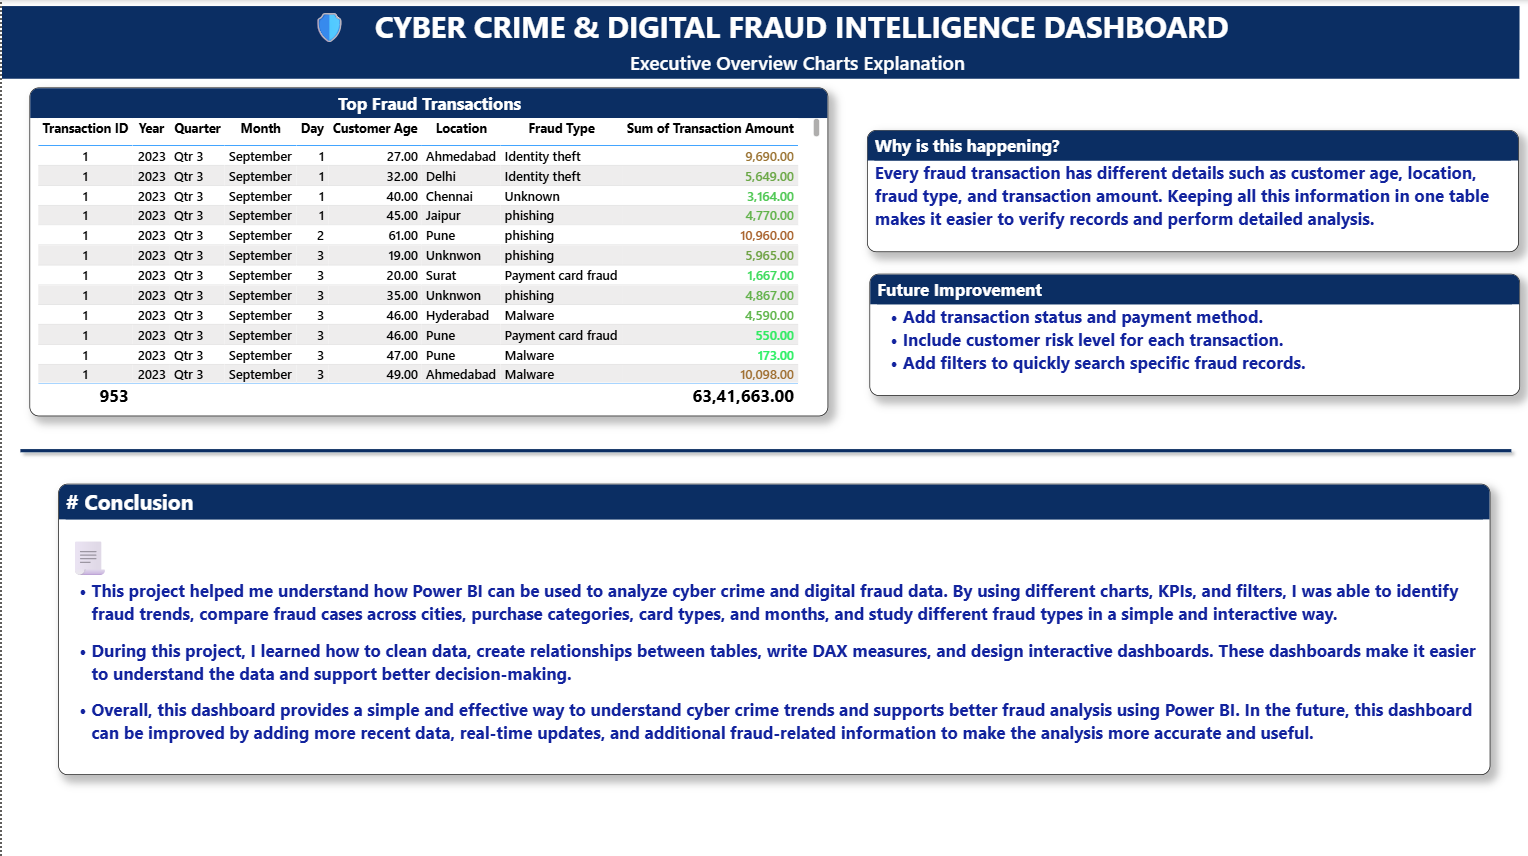

This screenshot's page, from the dashboard's own definition file:
{"tool":"powerbi","page":{"name":"Charts Explanation 3","canvas":[1920,1080],"ordinal":9},"visuals":[{"type":"shape","title":"   🛡️    CYBER CRIME & DIGITAL FRAUD INTELLIGENCE DASHBOARD","box":[0,7.3,1909.1,90.9],"z":0},{"type":"shape","box":[13.8,539.3,1893.6,55.1],"z":1000},{"type":"textbox","title":"Why is this happening?","box":[1088.4,164,819.8,153.5],"z":2000},{"type":"textbox","title":"Future Improvement","box":[1091.9,343.6,818,153.5],"z":3000},{"type":"textbox","title":"# Conclusion","box":[71.5,608.7,1801.7,366.3],"z":4000},{"type":"tableEx","title":"Top Fraud Transactions","fields":{"Values":["CountNonNull(Fact_Fraud.Transaction ID)","Fact_Fraud.Transaction Date Time.Variation.Date Hierarchy.Year","Fact_Fraud.Transaction Date Time.Variation.Date Hierarchy.Quarter","Fact_Fraud.Transaction Date Time.Variation.Date Hierarchy.Month","Fact_Fraud.Transaction Date Time.Variation.Date Hierarchy.Day","Fact_Fraud.Customer Age","Fact_Fraud.Location","Fact_Fraud.Fraud Type","Sum(Fact_Fraud.Transaction Amount)"]},"box":[34.9,109.9,1004.7,413.4],"z":5001}]}

Visuals, with their boxes in screenshot pixels (x1, y1, x2, y2), scaled from the page's 1920x1080 canvas onto the 1528x856 screenshot:
"   🛡️    CYBER CRIME & DIGITAL FRAUD INTELLIGENCE DASHBOARD" shape: left=0, top=6, right=1519, bottom=78
shape: left=11, top=427, right=1518, bottom=471
"Why is this happening?" textbox: left=866, top=130, right=1519, bottom=252
"Future Improvement" textbox: left=869, top=272, right=1520, bottom=394
"# Conclusion" textbox: left=57, top=482, right=1491, bottom=773
"Top Fraud Transactions" tableEx: left=28, top=87, right=827, bottom=415
